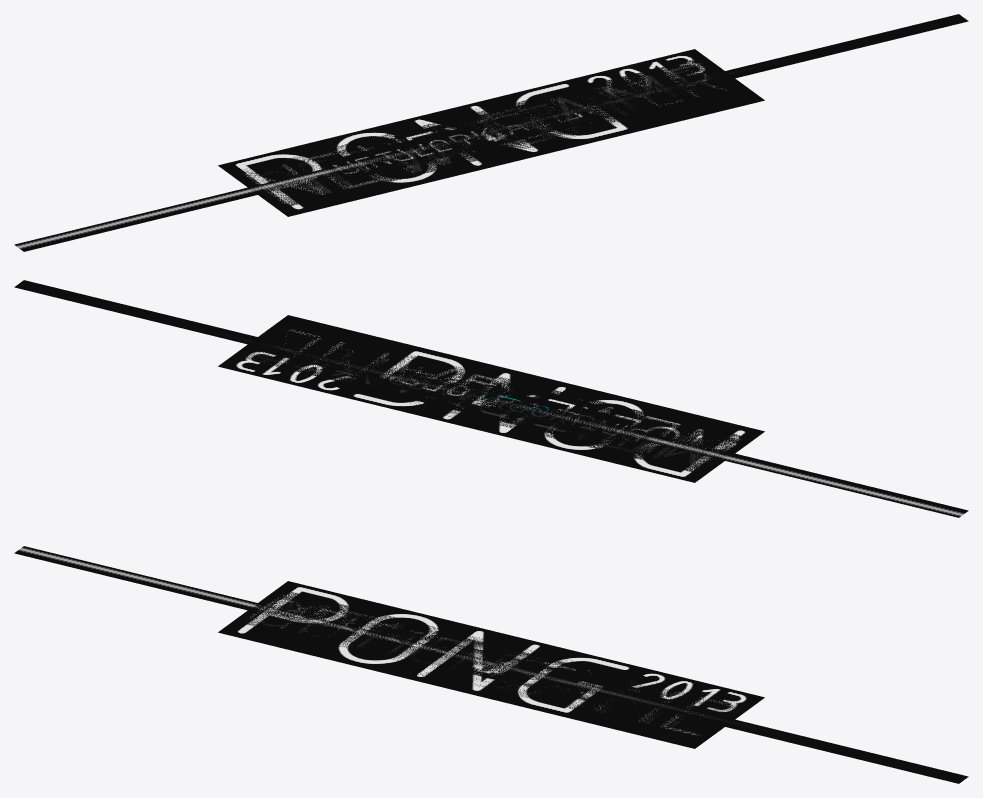
File: unity_MenuQuadsAgui_objectsA.fbx
The picture shows the model from 3 angles, top to bottom: view 1: azimuth 30°, elevation 25°; view 2: azimuth 150°, elevation 25°; view 3: azimuth 330°, elevation 25°; orthographic projection.
Visible parts, largest first — view 1: pong2013_001, newGamePassive_001, div_001, newGameActive_001, opitonsPassive_001, networkActive_001, singlePlayerActive_001, opitonsActive_001, networkPassive_001, exitPassive_001, creators_001, multiplayerActive_001 (+1 smaller); view 2: pong2013_001, div_001, multiplayerPassive_001, newGameActive_001, singlePlayerPassive_001, networkPassive_001, newGamePassive_001, multiplayerActive_001, creators_001, rh2_001, exitActive_001, opitonsActive_001; view 3: pong2013_001, div_001, opitonsPassive_001, newGamePassive_001, networkActive_001, newGameActive_001, networkPassive_001, singlePlayerActive_001, exitPassive_001, opitonsActive_001.
Boxes of the visible parts, x1,y1,x2,y2 form: pong2013_001: [218, 49, 764, 216]; newGamePassive_001: [263, 58, 727, 208]; div_001: [14, 14, 968, 251]; newGameActive_001: [231, 57, 723, 208]; opitonsPassive_001: [239, 69, 745, 191]; networkActive_001: [318, 85, 657, 172]; singlePlayerActive_001: [333, 89, 633, 181]; opitonsActive_001: [271, 61, 727, 204]; networkPassive_001: [321, 92, 630, 173]; exitPassive_001: [423, 99, 554, 133]; creators_001: [399, 99, 611, 168]; multiplayerActive_001: [303, 60, 747, 169]; pong2013_001: [218, 315, 764, 482]; div_001: [14, 280, 968, 517]; multiplayerPassive_001: [236, 342, 735, 470]; newGameActive_001: [247, 323, 753, 465]; singlePlayerPassive_001: [321, 360, 661, 442]; networkPassive_001: [334, 355, 654, 446]; newGamePassive_001: [381, 393, 740, 473]; multiplayerActive_001: [272, 327, 749, 462]; creators_001: [371, 372, 611, 419]; rh2_001: [446, 379, 562, 418]; exitActive_001: [495, 381, 588, 415]; opitonsActive_001: [243, 330, 740, 470]; pong2013_001: [218, 581, 764, 748]; div_001: [14, 546, 968, 783]; opitonsPassive_001: [237, 596, 744, 717]; newGamePassive_001: [256, 589, 720, 740]; networkActive_001: [331, 617, 664, 703]; newGameActive_001: [259, 590, 753, 740]; networkPassive_001: [335, 620, 660, 703]; singlePlayerActive_001: [420, 659, 647, 713]; exitPassive_001: [421, 631, 555, 662]; opitonsActive_001: [255, 592, 714, 734].
Size of the model in its own units: 200 by 4.2e-06 by 25.8.
